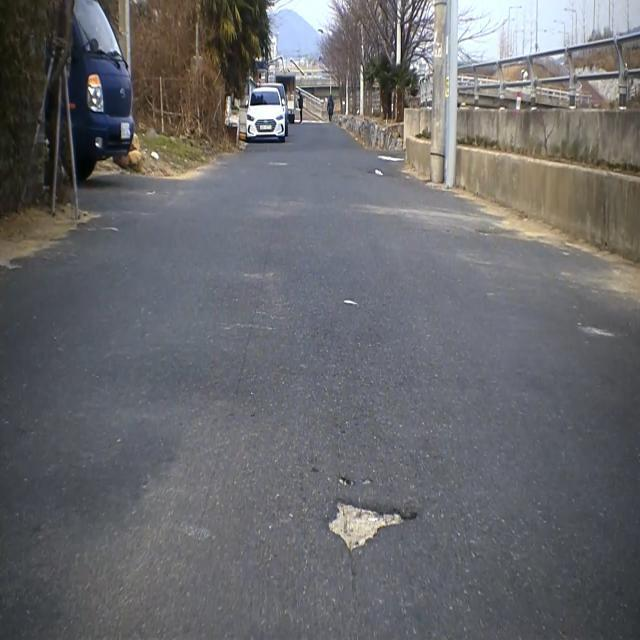Buraco: (322, 493, 424, 556)
